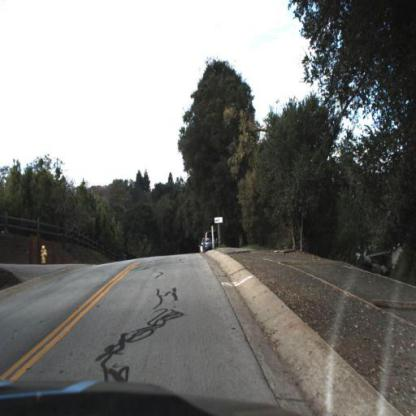car: (201, 231, 219, 254)
